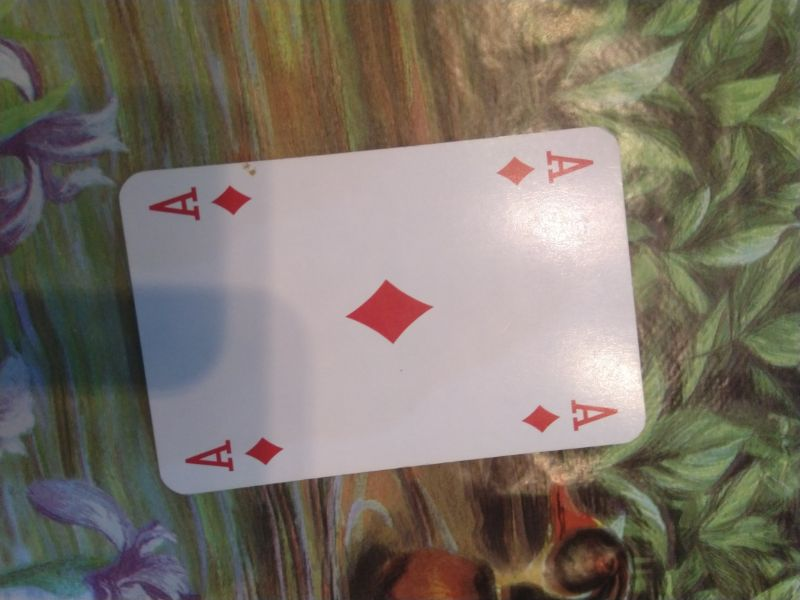Ad: (181, 427, 288, 479), (145, 181, 257, 226), (493, 146, 598, 191), (519, 395, 624, 435)
